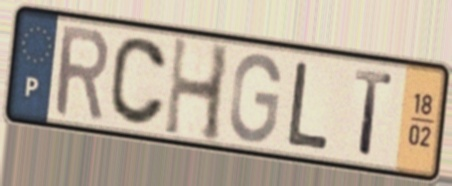C: (107, 34, 170, 129)
G: (226, 49, 283, 145)
H: (161, 32, 234, 147)
L: (284, 58, 333, 153)
R: (52, 23, 111, 125)
T: (352, 66, 395, 161)
